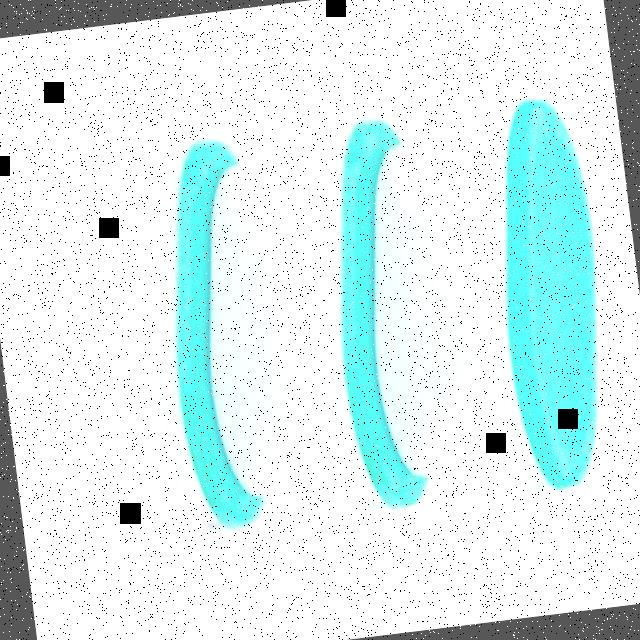plastic_box: (346, 82, 627, 513), (178, 110, 446, 536), (18, 134, 290, 546)
